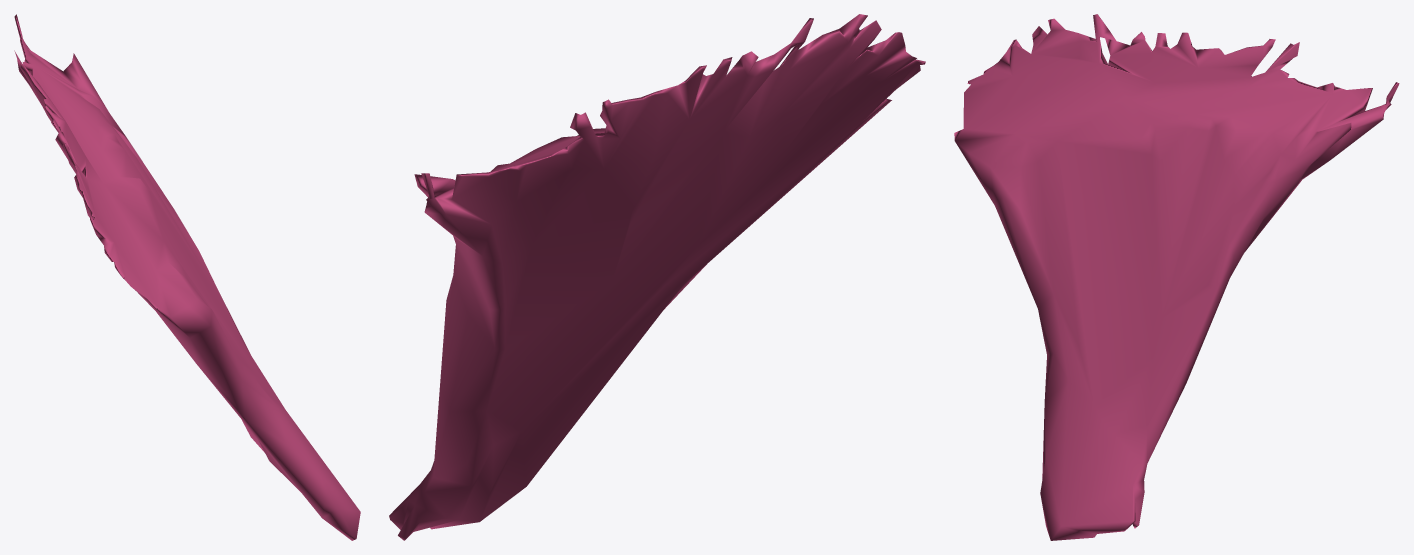
3 views of the same model, side by side, from view 1: azimuth 30°, elevation 25°; view 2: azimuth 150°, elevation 25°; view 3: azimuth 270°, elevation 25° (orthographic). The views are drawn at different scales.
Visible parts, largest first — view 1: 右侧笑肌; view 2: 右侧笑肌; view 3: 右侧笑肌.
Part boxes in pixels (bbox=[...]): 右侧笑肌: bbox=[14, 14, 360, 540]; 右侧笑肌: bbox=[389, 14, 925, 540]; 右侧笑肌: bbox=[954, 14, 1399, 540].
Size of the model in its own units: 0.0291 by 0.0406 by 0.04.
